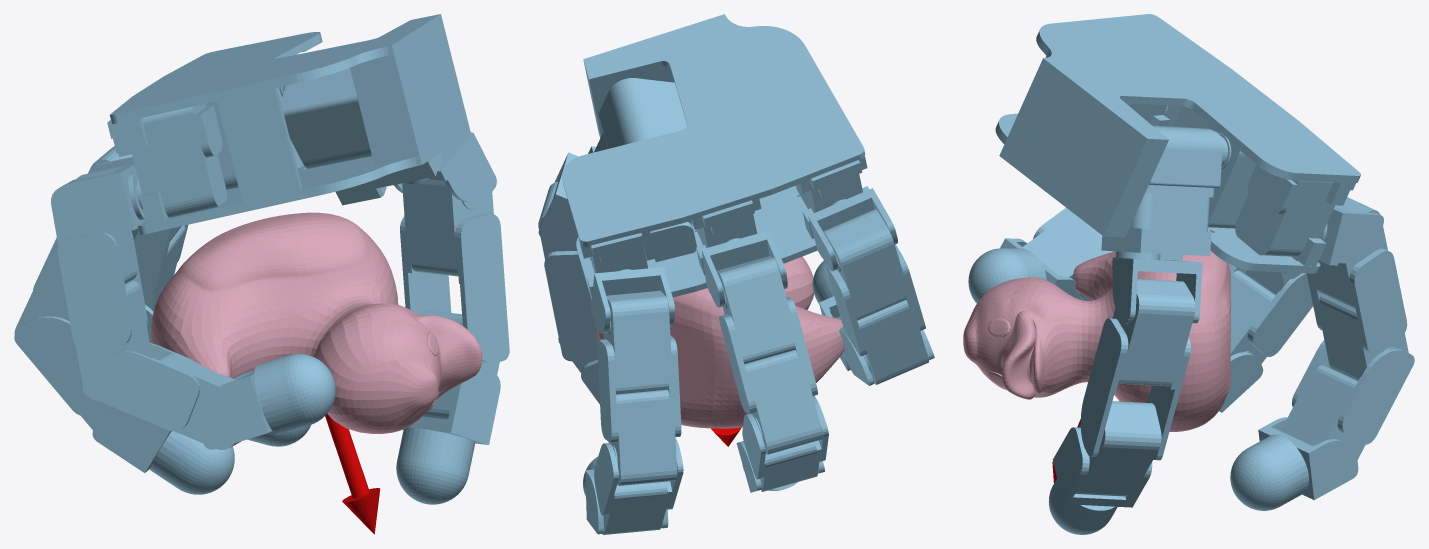
3 renders of one model, left to right at view 1: azimuth 30°, elevation 25°; view 2: azimuth 150°, elevation 25°; view 3: azimuth 270°, elevation 25°, orthographic. The views are drawn at different scales.
Parts seen in each view (by area): view 1: world, rubber_duck.stl; view 2: world, rubber_duck.stl; view 3: world, rubber_duck.stl.
Part boxes in pixels (<box>): world: <box>14,14,509,534</box>; rubber_duck.stl: <box>151,212,481,433</box>; world: <box>538,14,934,534</box>; rubber_duck.stl: <box>597,256,844,428</box>; world: <box>968,14,1414,534</box>; rubber_duck.stl: <box>963,251,1230,431</box>.
Size of the model in its own units: 0.162 by 0.1782 by 0.1618.
